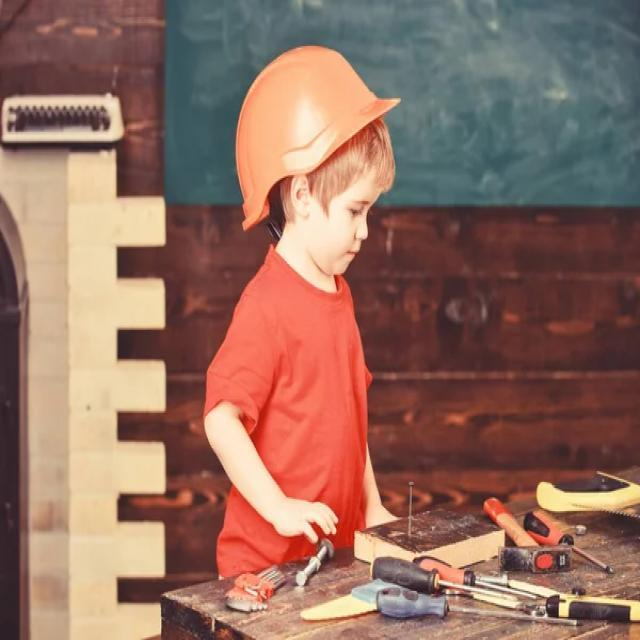hammer: (476, 480, 574, 590)
screwdriver: (406, 546, 547, 614), (370, 582, 540, 634), (524, 494, 622, 583), (367, 550, 525, 601)
